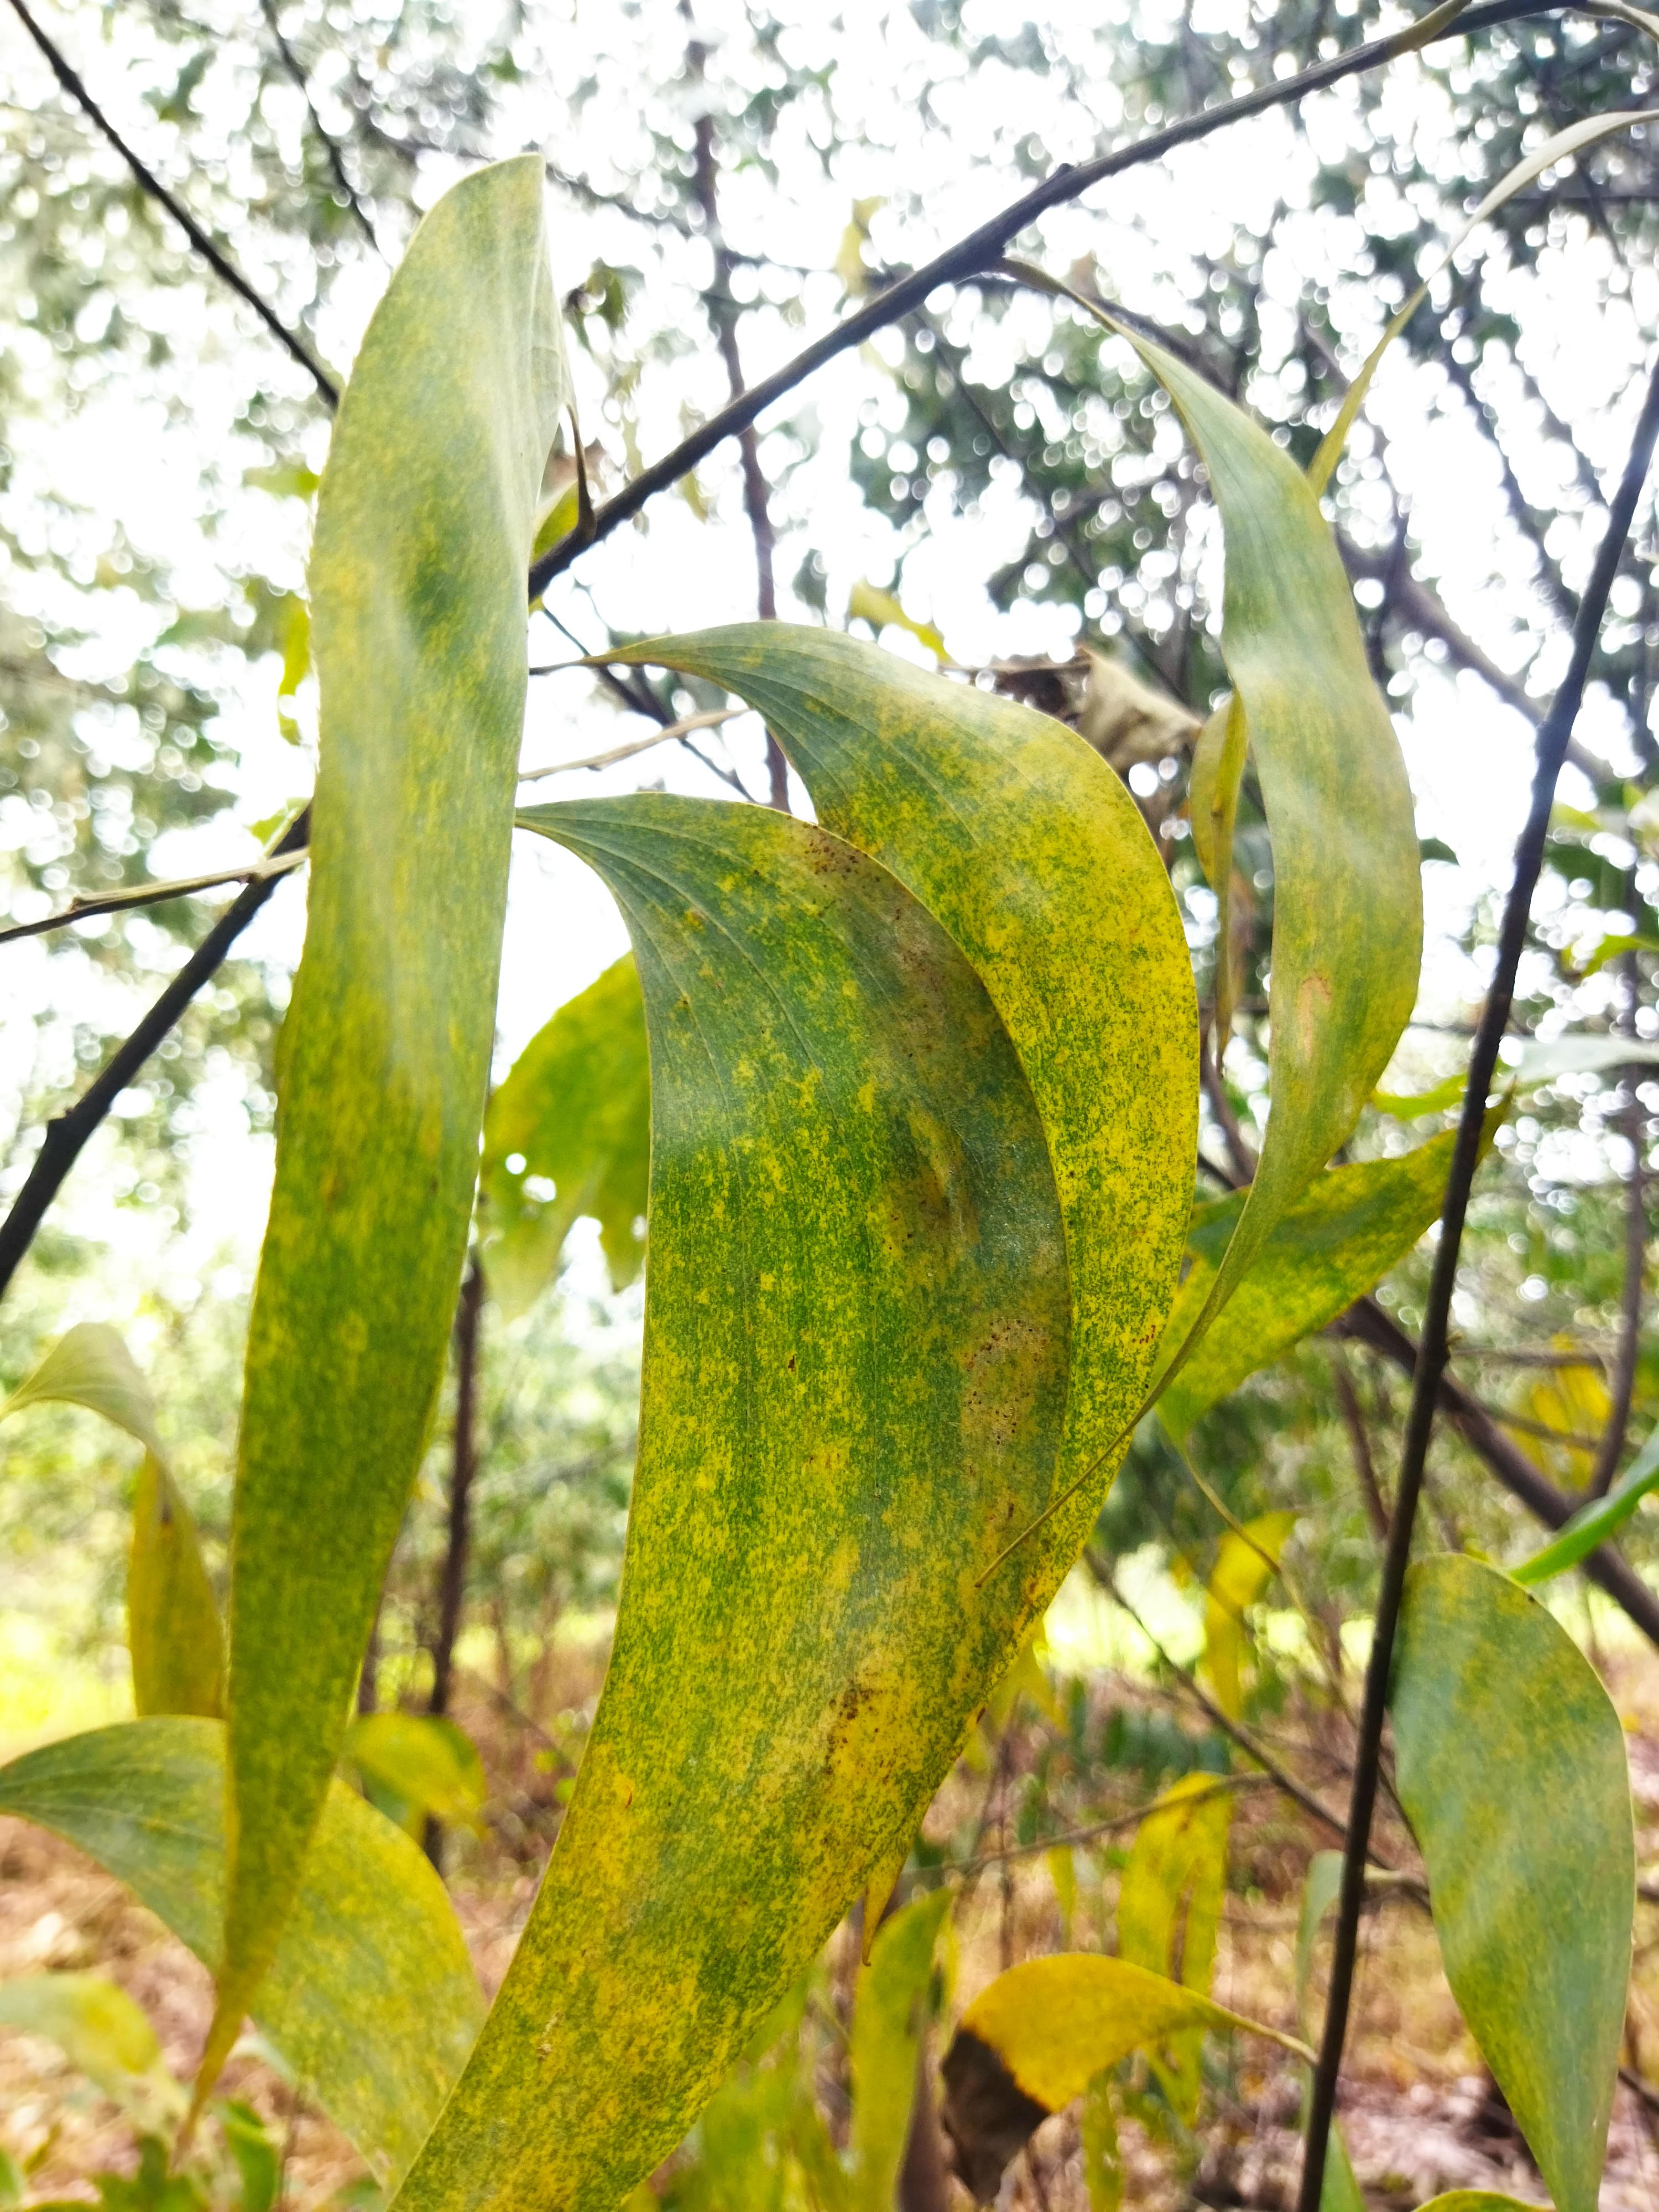Xanthomonas: (643, 874, 965, 1991)
